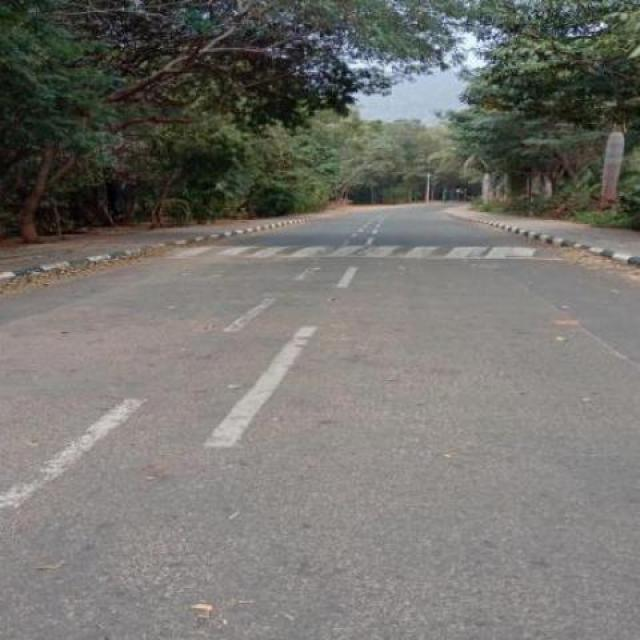Speed Bump: (177, 243, 582, 258)
